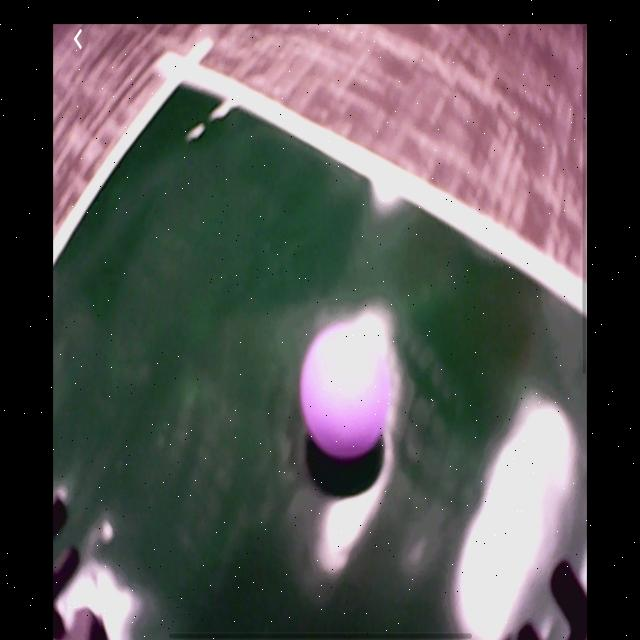ball: (302, 329, 391, 459)
